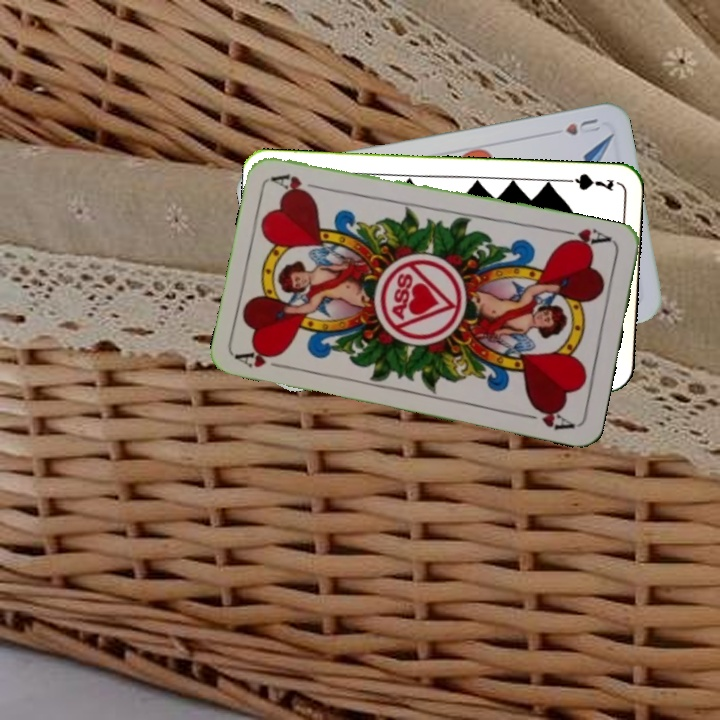G7: (557, 170, 616, 194)
HA: (233, 344, 292, 372), (556, 224, 614, 252)
HU: (561, 114, 603, 138)
